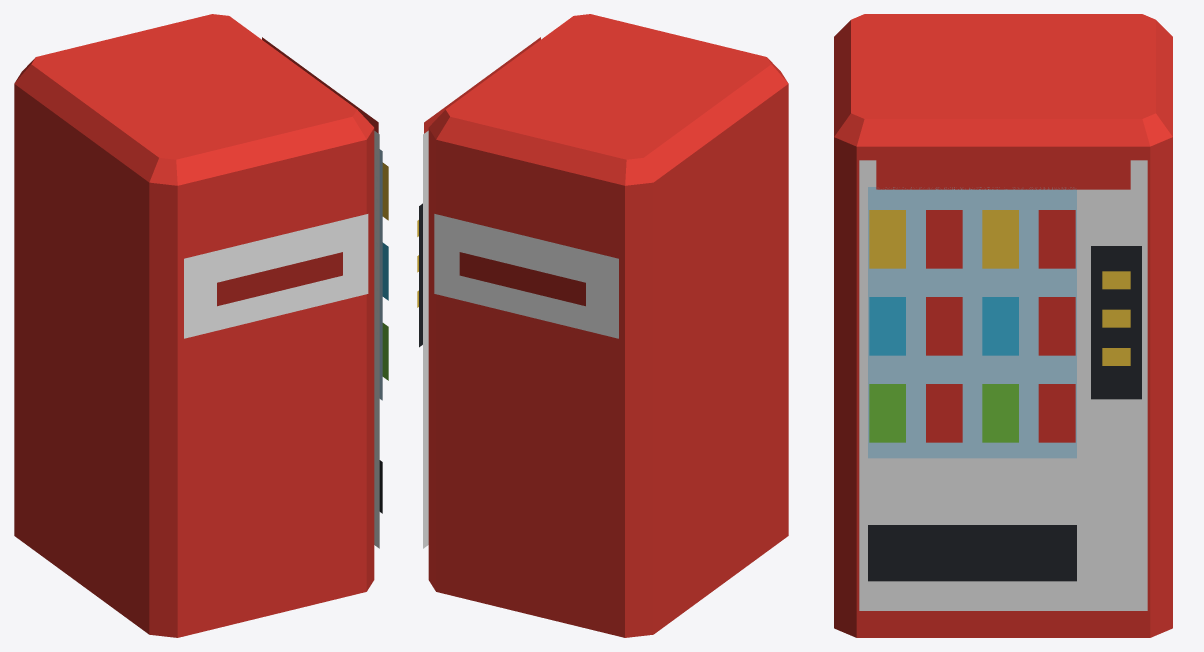
The model's file is vending.glb.
The picture shows the model from 3 angles, left to right: view 1: azimuth 30°, elevation 25°; view 2: azimuth 150°, elevation 25°; view 3: azimuth 270°, elevation 25°; orthographic projection. The views are drawn at different scales.
Parts seen in each view (by area): view 1: vending; view 2: vending; view 3: vending.
Part boxes in pixels (x1,y1,x2,y2): vending: (14, 14, 388, 637); vending: (417, 14, 788, 637); vending: (834, 14, 1172, 637).
Size of the model in its own units: 0.109 by 0.2 by 0.132.
